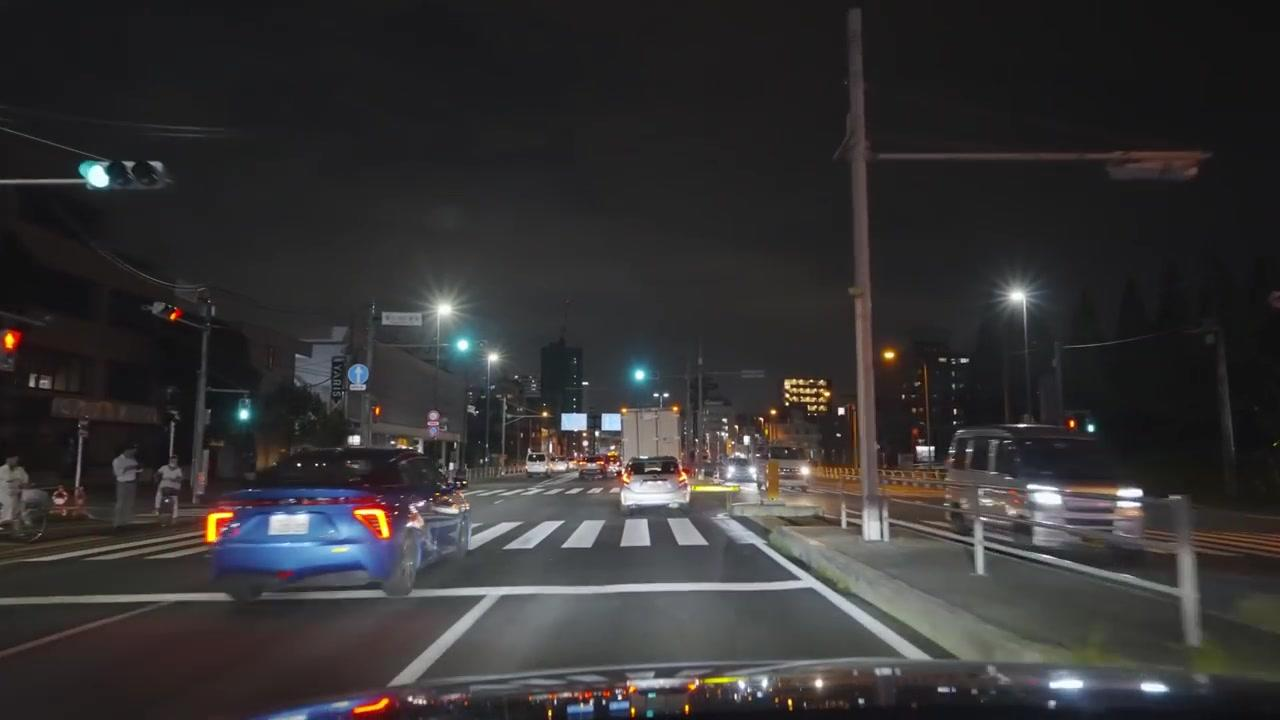bicycle: (1, 485, 51, 544)
car: (204, 445, 473, 578), (944, 425, 1144, 557), (202, 498, 430, 602), (620, 455, 691, 515), (764, 444, 811, 492), (721, 456, 757, 485), (576, 454, 608, 477), (525, 451, 549, 476)
motorcycle: (0, 485, 51, 544)
person: (0, 480, 48, 544), (112, 445, 143, 528), (153, 453, 184, 527), (0, 454, 29, 526)
traffic light: (78, 159, 165, 190), (0, 328, 23, 372), (330, 355, 347, 400), (235, 393, 252, 425), (451, 334, 474, 357), (159, 304, 185, 322), (630, 367, 649, 387), (371, 402, 381, 422), (669, 400, 681, 414)
